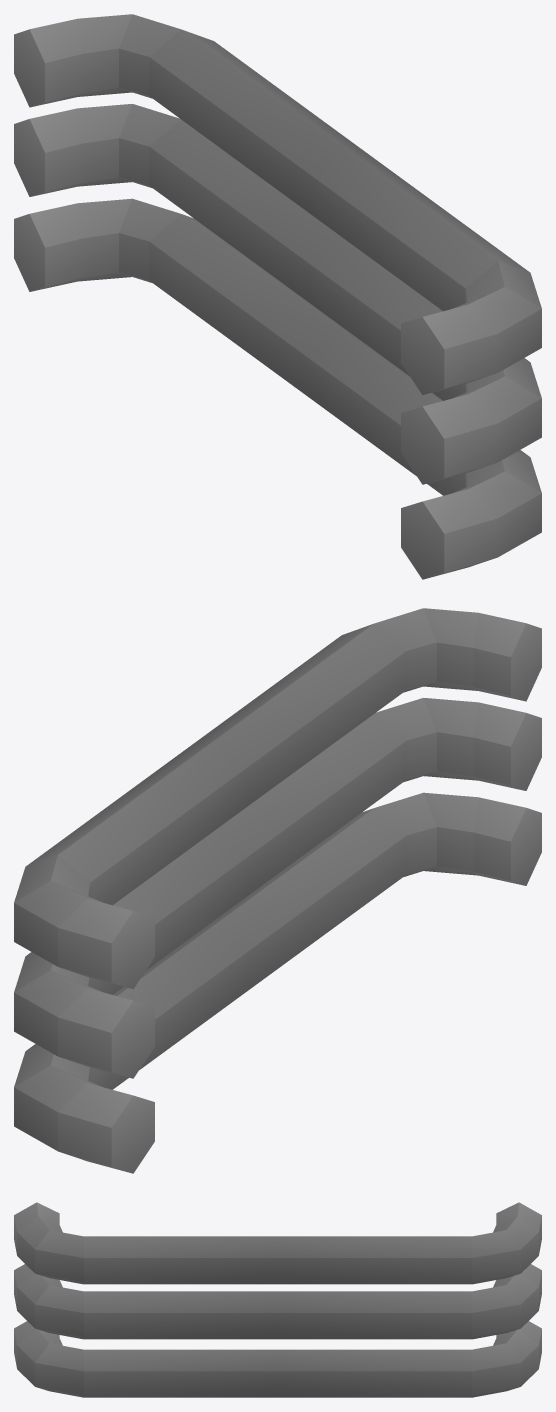
The model's file is pipes.glb.
The picture shows the model from 3 angles, top to bottom: view 1: azimuth 30°, elevation 25°; view 2: azimuth 150°, elevation 25°; view 3: azimuth 270°, elevation 25°; orthographic projection. The views are drawn at different scales.
Parts seen in each view (by area): view 1: pipes; view 2: pipes; view 3: pipes.
Part boxes in pixels (x1,y1,x2,y2): pipes: [14, 14, 541, 579]; pipes: [14, 608, 541, 1173]; pipes: [14, 1202, 541, 1397].
Bounding box in the file's own units: 3.99 × 6.71 × 19.91.
Materials: 1 (1 with a texture image).
